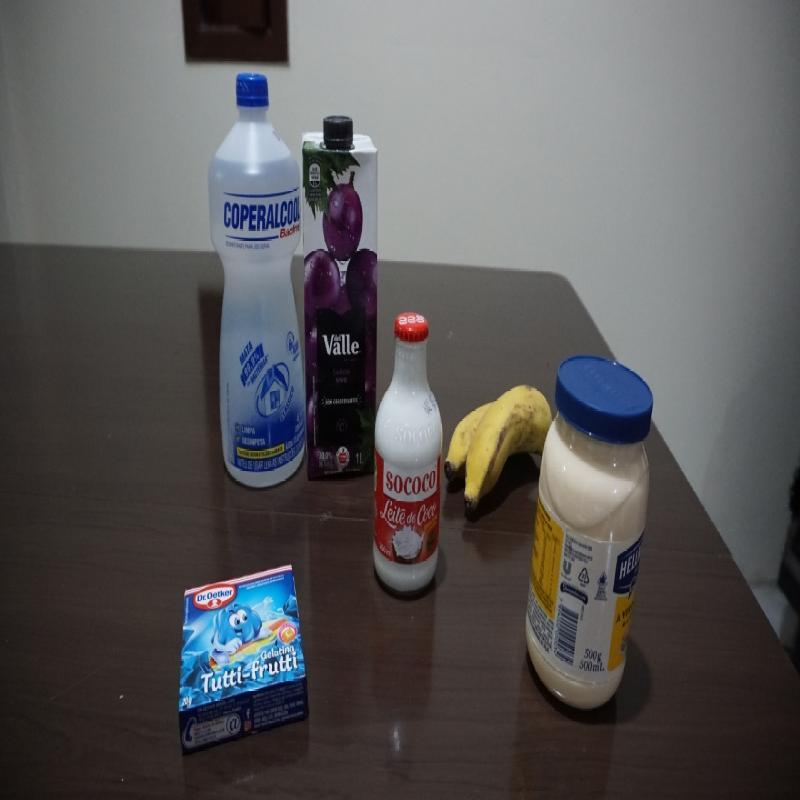Alcohol Bottle: (207, 73, 308, 491)
Banana: (444, 381, 554, 519)
Coconut Milk: (370, 308, 444, 594)
Gelatine: (175, 558, 311, 762)
Mayonnaise: (523, 353, 656, 716)
